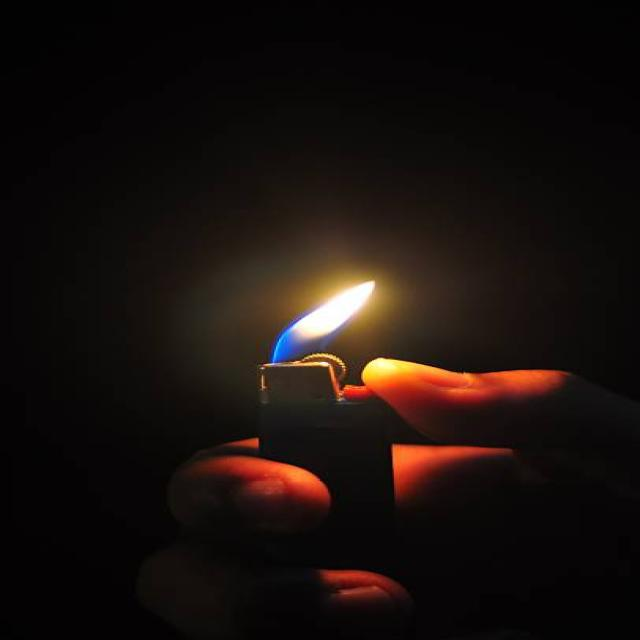fire: (269, 280, 375, 364)
